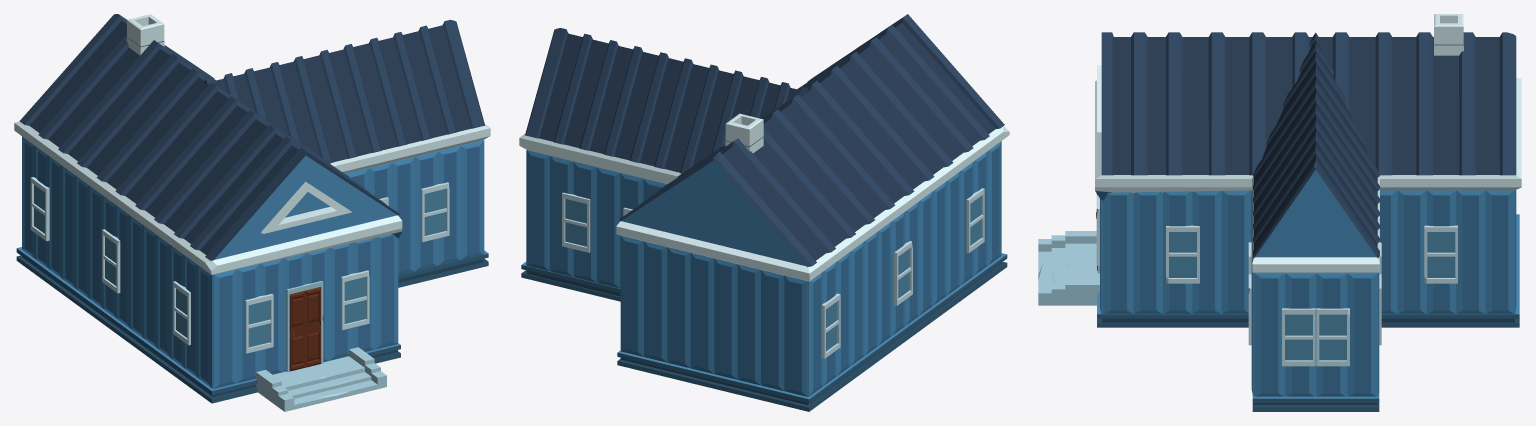
File: House_3.fbx
The picture shows the model from 3 angles, left to right: view 1: azimuth 30°, elevation 25°; view 2: azimuth 150°, elevation 25°; view 3: azimuth 270°, elevation 25°; orthographic projection. The views are drawn at different scales.
Parts seen in each view (by area): view 1: House_3; view 2: House_3; view 3: House_3.
Boxes of the visible parts, x1,y1,x2,y2 form: House_3: [14, 14, 490, 411]; House_3: [519, 14, 1009, 411]; House_3: [1038, 14, 1521, 411].
Bounding box in the file's own units: 1014 × 659 × 1114.
